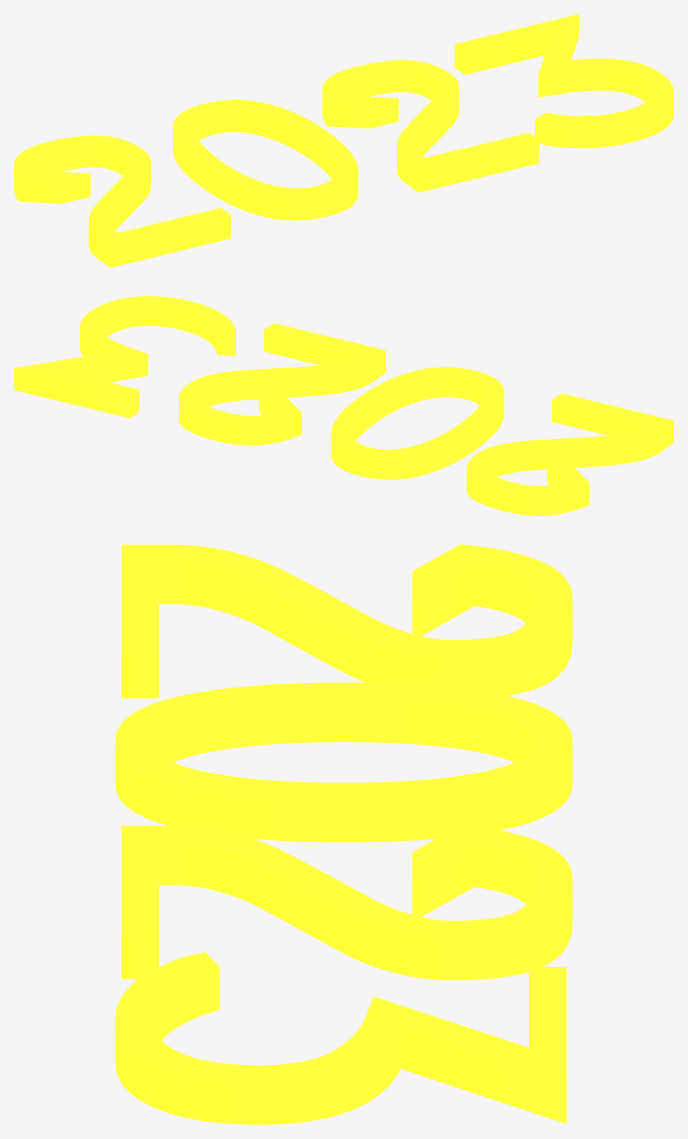
3 renders of one model, top to bottom at view 1: azimuth 30°, elevation 25°; view 2: azimuth 150°, elevation 25°; view 3: azimuth 270°, elevation 25°, orthographic. The views are drawn at different scales.
Visible parts, largest first — view 1: Text; view 2: Text; view 3: Text.
Boxes of the visible parts, x1,y1,x2,y2 form: Text: [14, 14, 673, 267]; Text: [14, 296, 673, 515]; Text: [115, 544, 572, 1124].
Size of the model in its own units: 2.63 by 0.1 by 0.9479.
